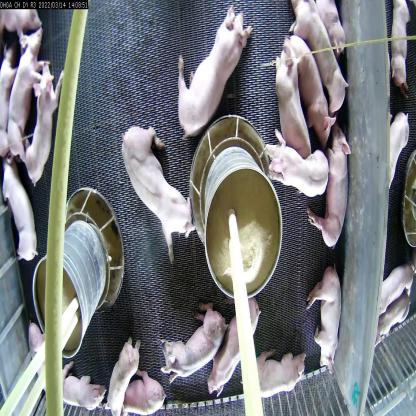Pig: (124, 109, 188, 248), (185, 1, 249, 137), (291, 0, 349, 114), (286, 24, 332, 158), (18, 69, 66, 180), (213, 300, 260, 406), (311, 119, 346, 260), (0, 162, 44, 270), (269, 47, 311, 154), (11, 27, 44, 162), (268, 134, 328, 201), (252, 340, 313, 404), (171, 307, 226, 377), (309, 265, 338, 377), (63, 363, 108, 415), (116, 366, 161, 416), (104, 343, 132, 409)
